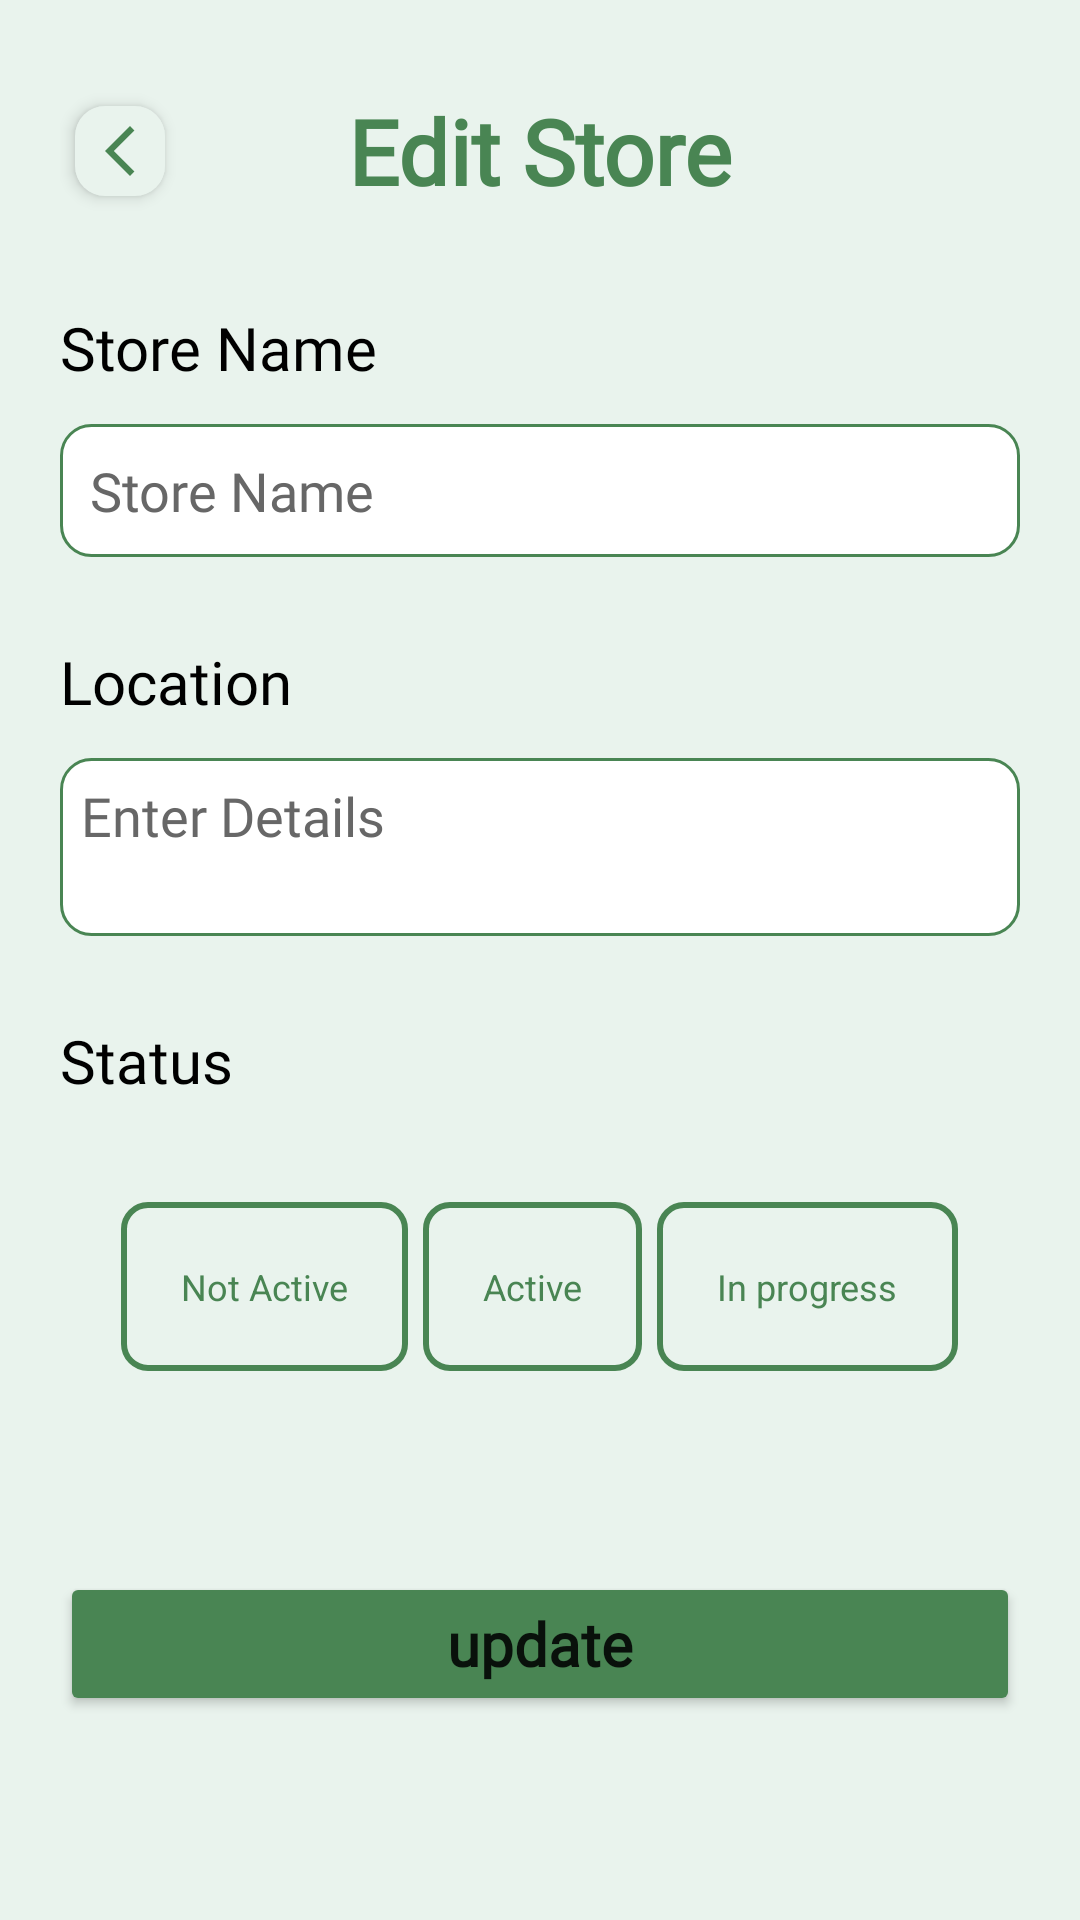

Icons on this 1080px×1920px Android screen, each with the point to tap as [x,y]:
back: [120,151]
